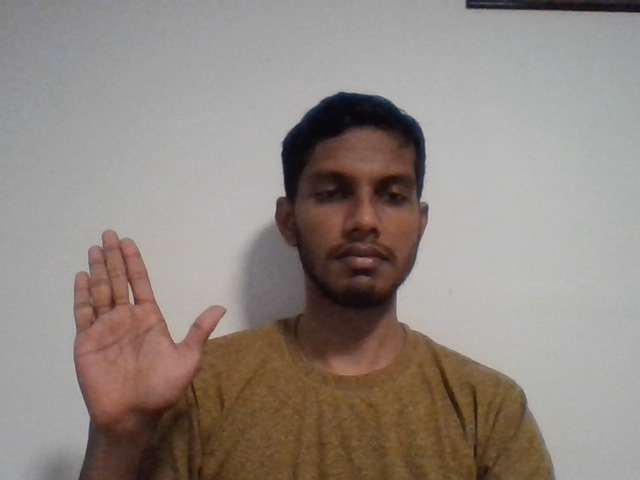hello: (48, 221, 239, 452)
